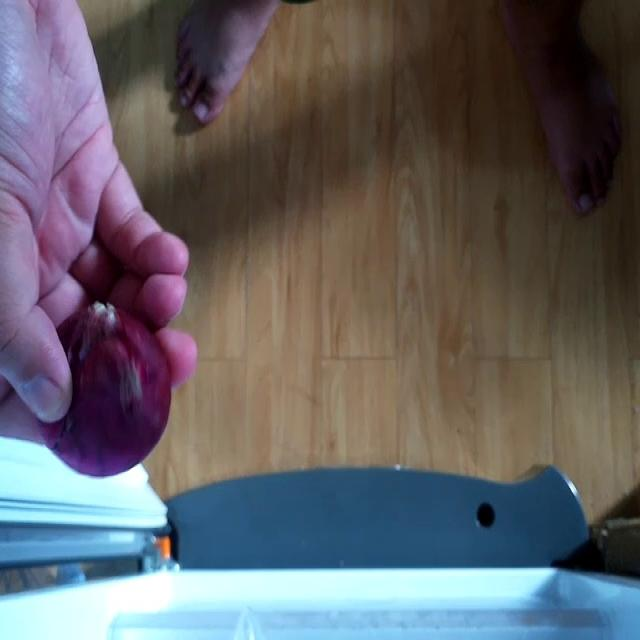onion: (44, 299, 176, 480)
